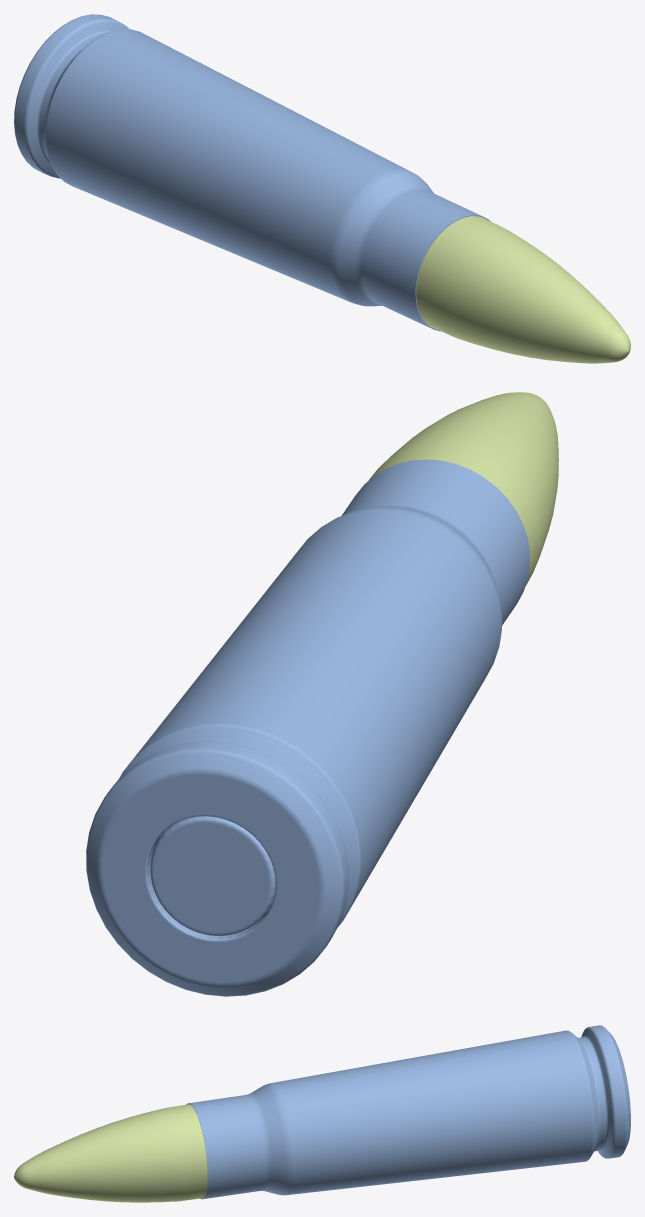
Rendered from bullet.obj.
3 renders of one model, top to bottom at view 1: azimuth 30°, elevation 25°; view 2: azimuth 150°, elevation 25°; view 3: azimuth 270°, elevation 25°, orthographic. The views are drawn at different scales.
Parts seen in each view (by area): view 1: Line062, Line061; view 2: Line062, Line061; view 3: Line062, Line061.
Part boxes in pixels (x1,y1,x2,y2): Line062: (14,14,490,331); Line061: (416,216,630,363); Line062: (86,459,529,996); Line061: (368,392,558,585); Line062: (186,1025,630,1199); Line061: (14,1104,207,1202).
Bounding box in the file's own units: 8.25 × 4.7 × 21.5.
